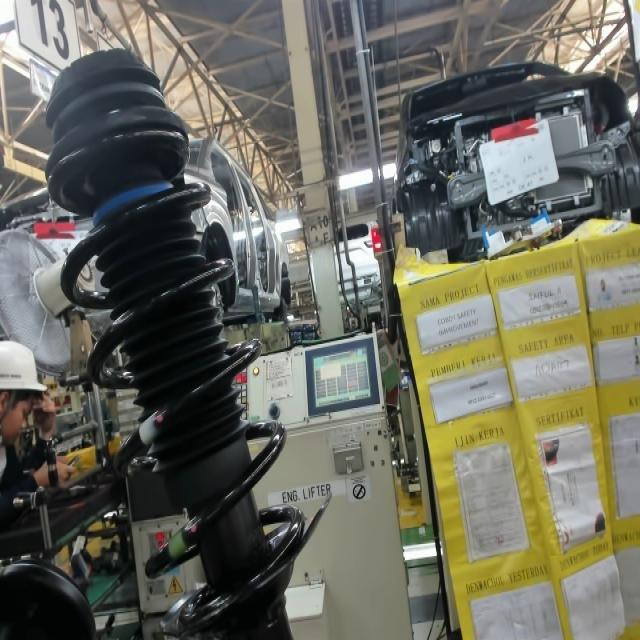Bumper-BR: (83, 170, 175, 233)
